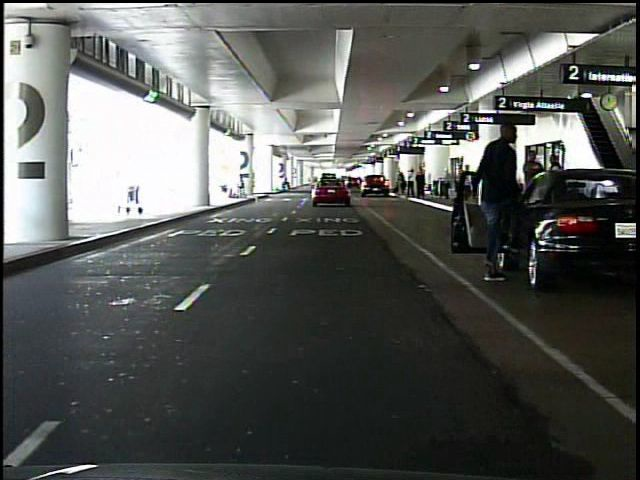person: (476, 118, 532, 288), (520, 148, 547, 225), (546, 152, 565, 223), (458, 164, 469, 206), (441, 168, 453, 200), (416, 169, 427, 201), (406, 167, 416, 200), (398, 171, 407, 197), (282, 174, 291, 191)
